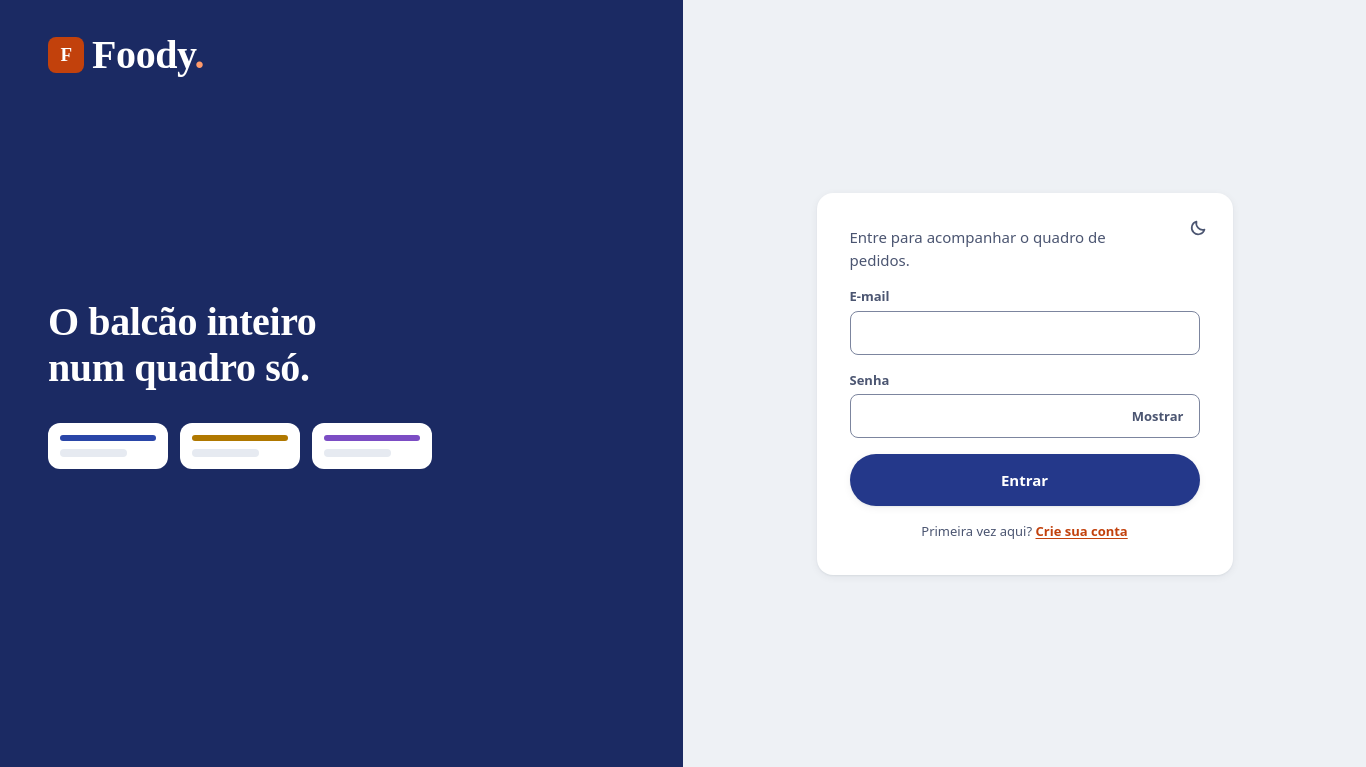
Test: login e proteção de rota › após login válido volta para a rota que o visitante tentou abrir
Type "ana@foody.dev" into the field labelled "E-mail" at (1024, 333), box [850,311,1200,355]
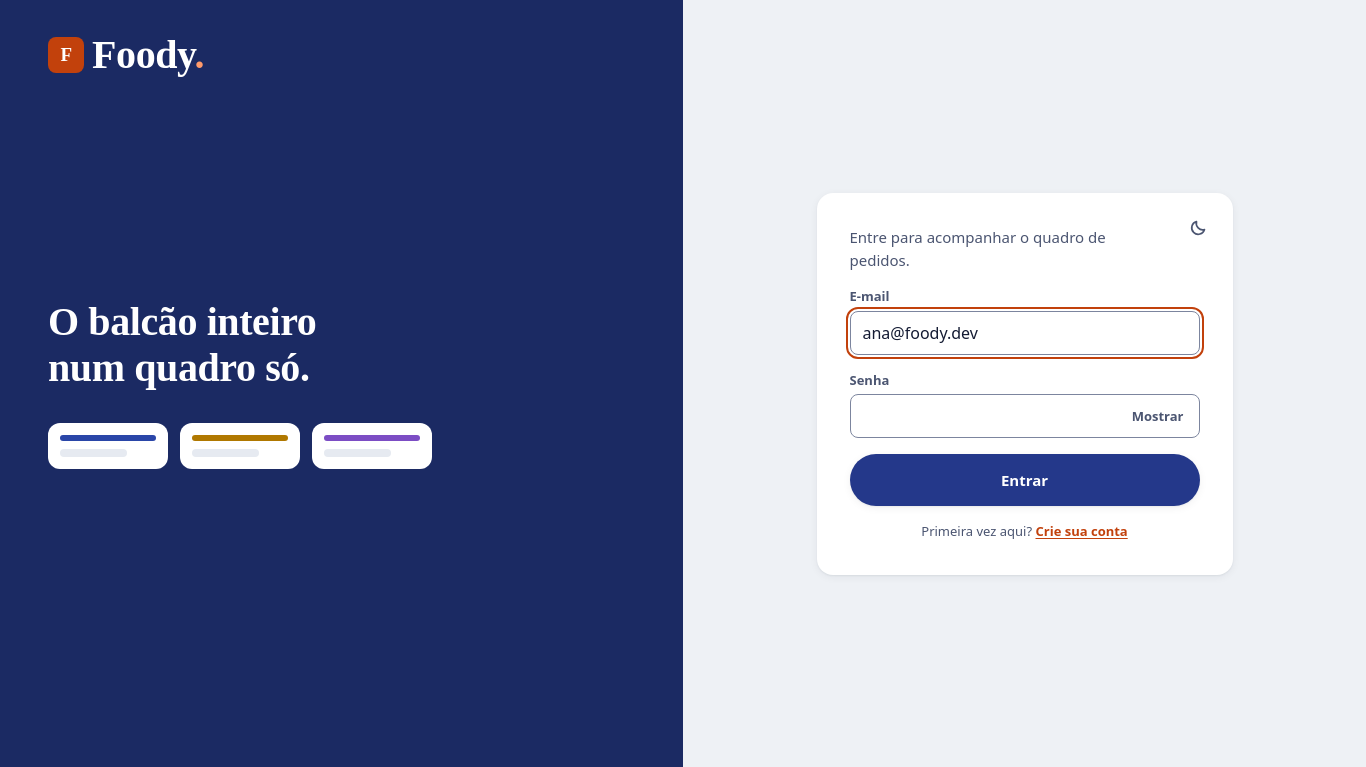
Type "segredo123" into the password field labelled "Senha" at (1024, 416), box [850,394,1200,438]
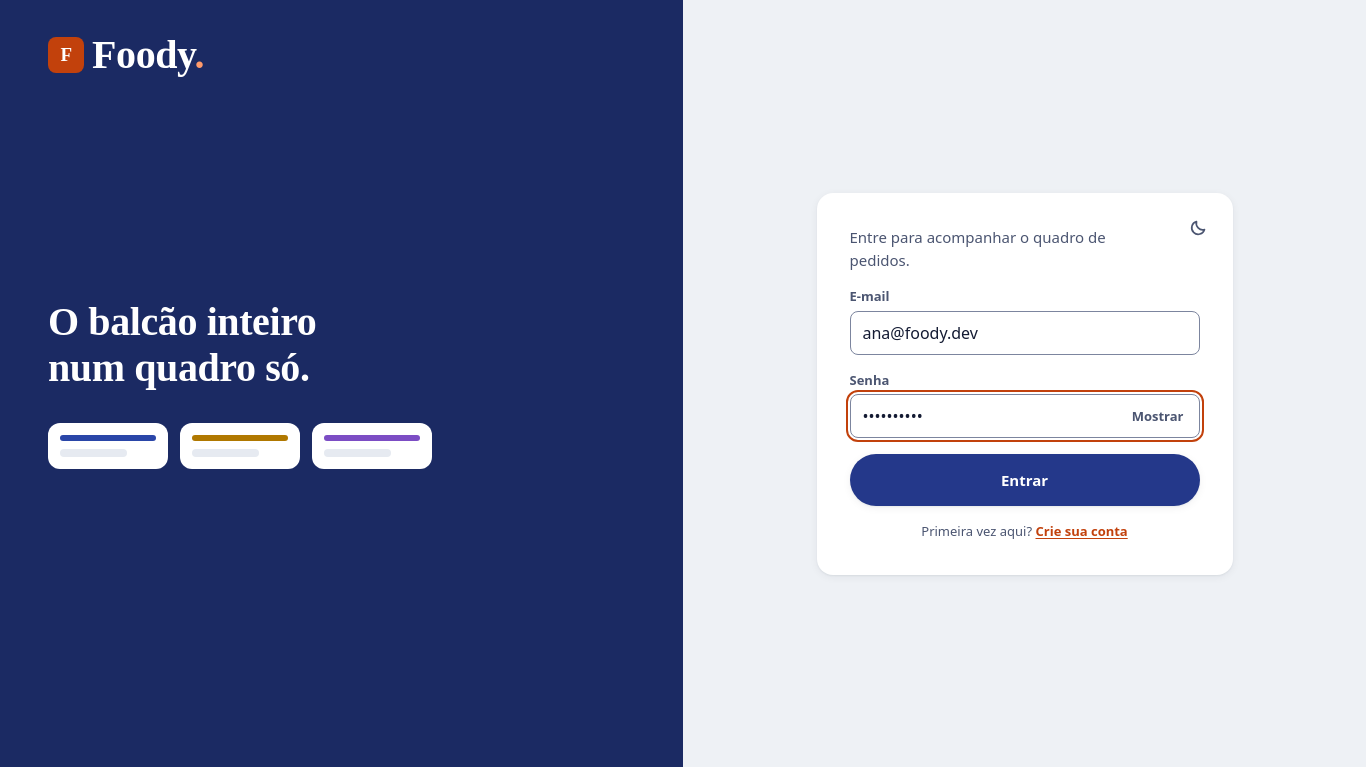
Click the button "Entrar" at (1024, 480), box [850,454,1200,506]
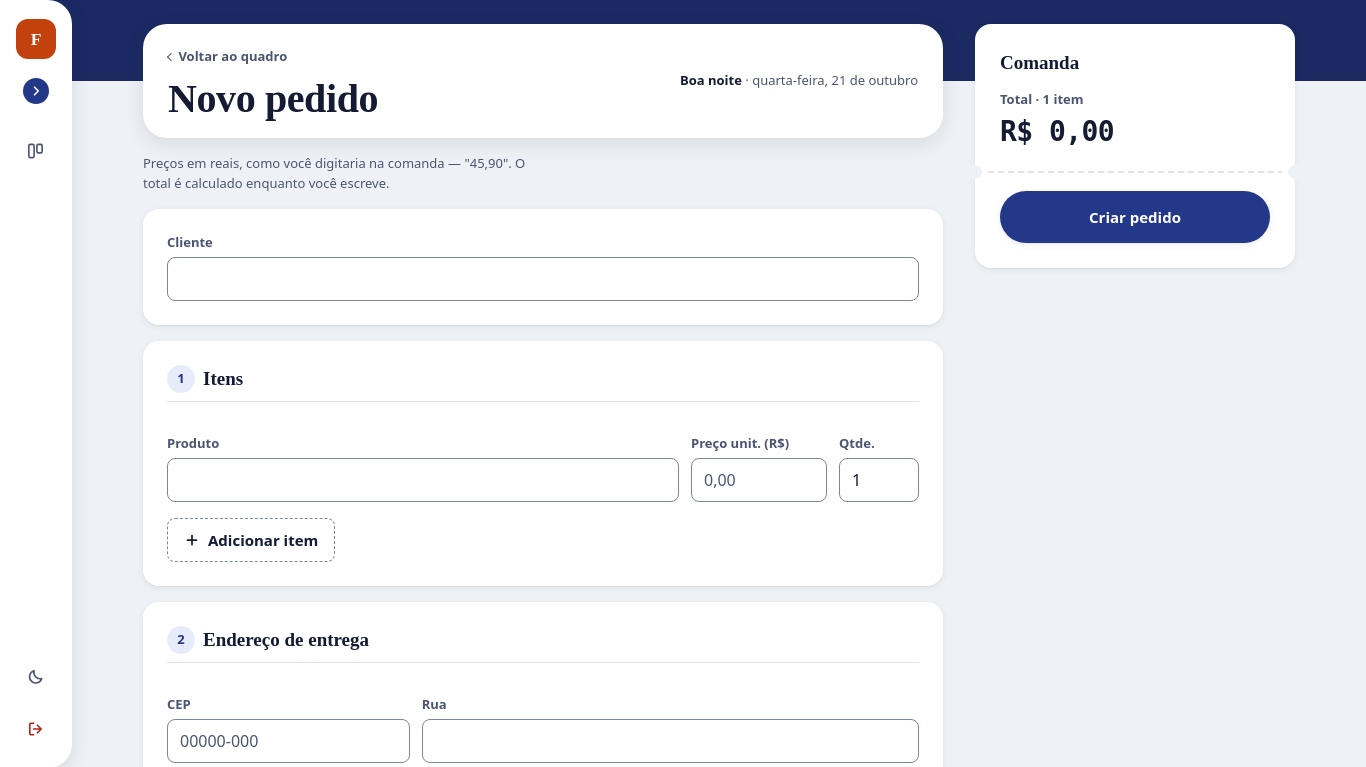
Result: the heading "Novo pedido" is shown at [168,77,378,121]
